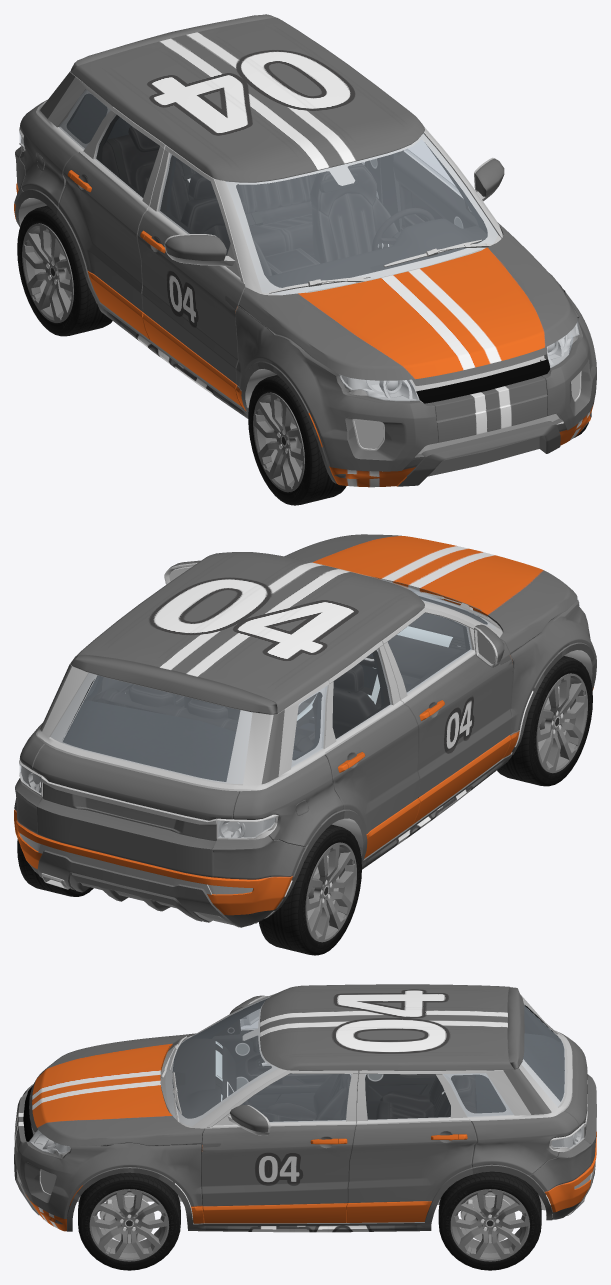
The model's file is RealisticCar01_Complete_teste.fbx.
3 renders of one model, top to bottom at view 1: azimuth 30°, elevation 25°; view 2: azimuth 150°, elevation 25°; view 3: azimuth 270°, elevation 25°, orthographic. The views are drawn at different scales.
Parts seen in each view (by area): view 1: Car01_Body_LOD0, Car01_Glass_LOD0, Capo, Car01_Interior_LOD0, Car01_Door_Front_Right_LOD0, Car01_Door_Back_Right_LOD0, Car01_Wheel_FrontRight_LOD0, Car01_Wheel_RearRight_LOD0, Car01_Door_Front_Left_LOD0, Vidro, frontal_1, tampo_superior_traseiro (+2 smaller); view 2: Car01_Body_LOD0, Car01_Interior_LOD0, Car01_Glass_LOD0, Car01_Door_Front_Right_LOD0, Car01_Door_Back_Right_LOD0, Capo, Car01_Wheel_RearRight_LOD0, Car01_Wheel_FrontRight_LOD0, tampo_superior_traseiro, Vidro, Car01_Wheel_RearLeft_LOD0; view 3: Car01_Body_LOD0, Car01_Door_Front_Left_LOD0, Car01_Door_Back_Left_LOD0, Capo, Car01_Glass_LOD0, Car01_Interior_LOD0, Car01_Wheel_RearLeft_LOD0, Car01_Wheel_FrontLeft_LOD0, Car01_Door_Front_Right_LOD0, Car01_Door_Back_Right_LOD0, tampo_superior_traseiro, Car01_BrakeDisc_RearLeft_LOD0 (+1 smaller).
Boxes of the visible parts, x1=… form: Car01_Body_LOD0: x1=14, y1=17, x2=596, y2=487; Car01_Glass_LOD0: x1=19, y1=90, x2=579, y2=400; Capo: x1=238, y1=225, x2=577, y2=380; Car01_Interior_LOD0: x1=66, y1=93, x2=487, y2=287; Car01_Door_Front_Right_LOD0: x1=137, y1=145, x2=245, y2=410; Car01_Door_Back_Right_LOD0: x1=57, y1=107, x2=165, y2=342; Car01_Wheel_FrontRight_LOD0: x1=248, y1=375, x2=346, y2=505; Car01_Wheel_RearRight_LOD0: x1=17, y1=205, x2=112, y2=336; Car01_Door_Front_Left_LOD0: x1=393, y1=127, x2=504, y2=231; Vidro: x1=158, y1=153, x2=230, y2=255; frontal_1: x1=416, y1=359, x2=550, y2=403; tampo_superior_traseiro: x1=70, y1=14, x2=275, y2=71; Car01_Body_LOD0: x1=14, y1=552, x2=596, y2=927; Car01_Interior_LOD0: x1=63, y1=596, x2=487, y2=781; Car01_Glass_LOD0: x1=19, y1=569, x2=579, y2=837; Car01_Door_Front_Right_LOD0: x1=382, y1=608, x2=512, y2=827; Car01_Door_Back_Right_LOD0: x1=325, y1=641, x2=420, y2=863; Capo: x1=284, y1=534, x2=577, y2=654; Car01_Wheel_RearRight_LOD0: x1=259, y1=824, x2=361, y2=955; Car01_Wheel_FrontRight_LOD0: x1=497, y1=656, x2=592, y2=786; tampo_superior_traseiro: x1=70, y1=655, x2=277, y2=714; Vidro: x1=388, y1=613, x2=471, y2=693; Car01_Wheel_RearLeft_LOD0: x1=17, y1=839, x2=93, y2=896; Car01_Body_LOD0: x1=14, y1=984, x2=596, y2=1232; Car01_Door_Front_Left_LOD0: x1=201, y1=1070, x2=358, y2=1225; Car01_Door_Back_Left_LOD0: x1=346, y1=1070, x2=477, y2=1225; Capo: x1=32, y1=1033, x2=204, y2=1146; Car01_Glass_LOD0: x1=29, y1=997, x2=583, y2=1153; Car01_Interior_LOD0: x1=172, y1=998, x2=564, y2=1121; Car01_Wheel_RearLeft_LOD0: x1=438, y1=1171, x2=541, y2=1270; Car01_Wheel_FrontLeft_LOD0: x1=78, y1=1172, x2=180, y2=1270; Car01_Door_Front_Right_LOD0: x1=212, y1=995, x2=331, y2=1112; Car01_Door_Back_Right_LOD0: x1=365, y1=1074, x2=436, y2=1119; tampo_superior_traseiro: x1=507, y1=987, x2=524, y2=1069; Car01_BrakeDisc_RearLeft_LOD0: x1=472, y1=1195, x2=515, y2=1243.
Bounding box in the file's own units: 224 × 164 × 434.
